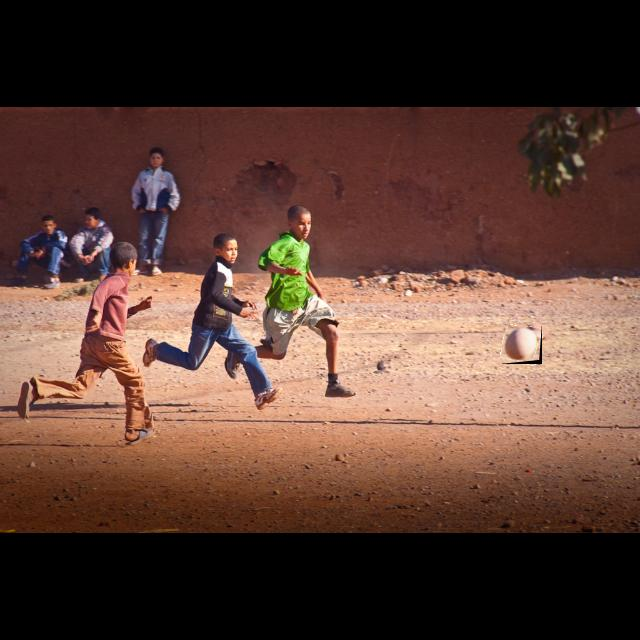Football: (502, 326, 542, 364)
